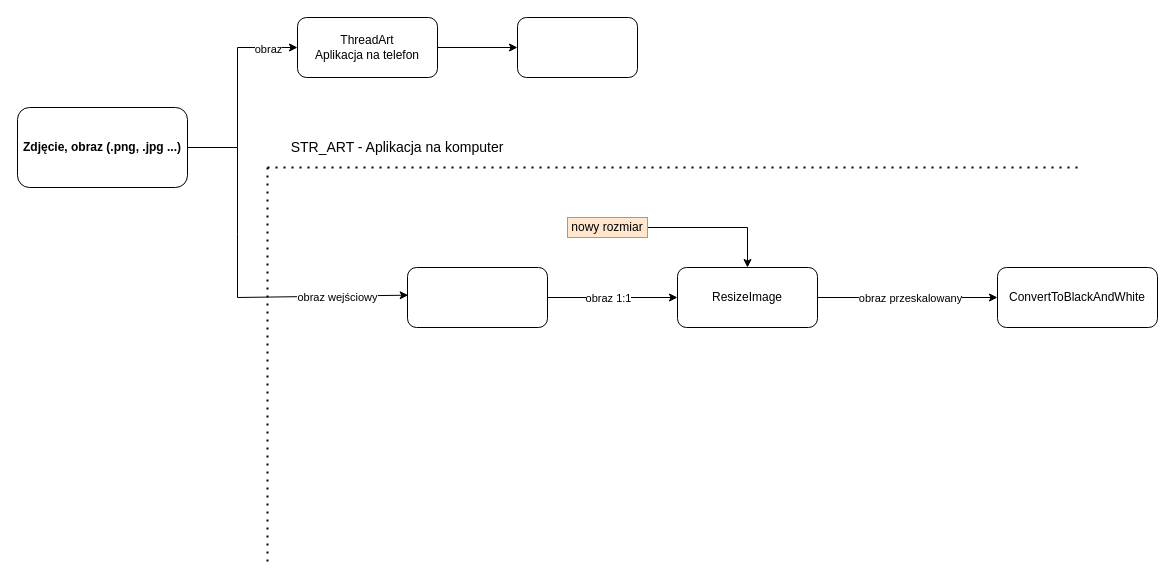
This 1175x587 diagram has some shape labels left out. The box of each missing label's shape, as (x1, y1, x2, y2) in pixels:
CropImageToSquare: (406, 266, 548, 328)
Plik TXT (instrukcja): (516, 16, 638, 78)
